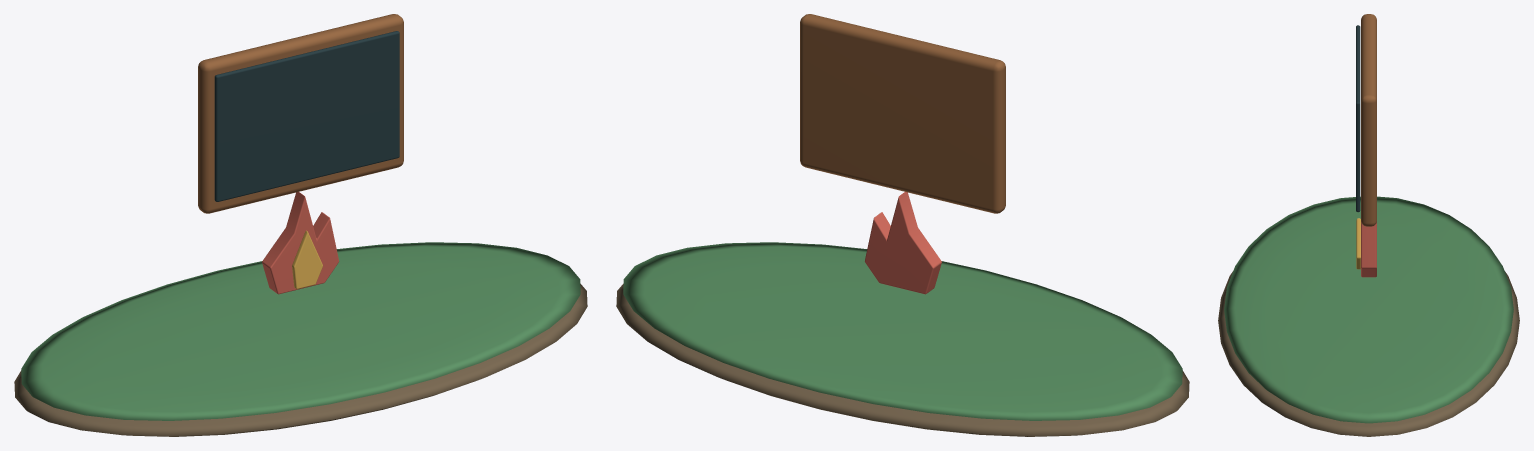
Rendered from black.glb.
3 renders of one model, left to right at view 1: azimuth 30°, elevation 25°; view 2: azimuth 150°, elevation 25°; view 3: azimuth 270°, elevation 25°, orthographic. The views are drawn at different scales.
Visible parts, largest first — view 1: black_surface_01, black_surface_03, black_surface_00, black_surface_02, black_surface_04, black_surface_05; view 2: black_surface_01, black_surface_02, black_surface_00, black_surface_04; view 3: black_surface_01, black_surface_00, black_surface_02, black_surface_03, black_surface_04.
Part boxes in pixels (bbox=[...]): black_surface_01: bbox=[21, 242, 580, 420]; black_surface_03: bbox=[214, 31, 399, 201]; black_surface_00: bbox=[14, 283, 587, 436]; black_surface_02: bbox=[198, 14, 403, 213]; black_surface_04: bbox=[262, 192, 339, 294]; black_surface_05: bbox=[292, 230, 322, 289]; black_surface_01: bbox=[623, 242, 1182, 420]; black_surface_02: bbox=[800, 14, 1005, 213]; black_surface_00: bbox=[616, 283, 1189, 436]; black_surface_04: bbox=[864, 192, 941, 294]; black_surface_01: bbox=[1224, 196, 1513, 423]; black_surface_00: bbox=[1218, 271, 1519, 436]; black_surface_02: bbox=[1361, 14, 1376, 226]; black_surface_03: bbox=[1356, 25, 1360, 212]; black_surface_04: bbox=[1361, 222, 1376, 277].
Bounding box in the file's own units: 4.56 × 2.56 × 2.5.
